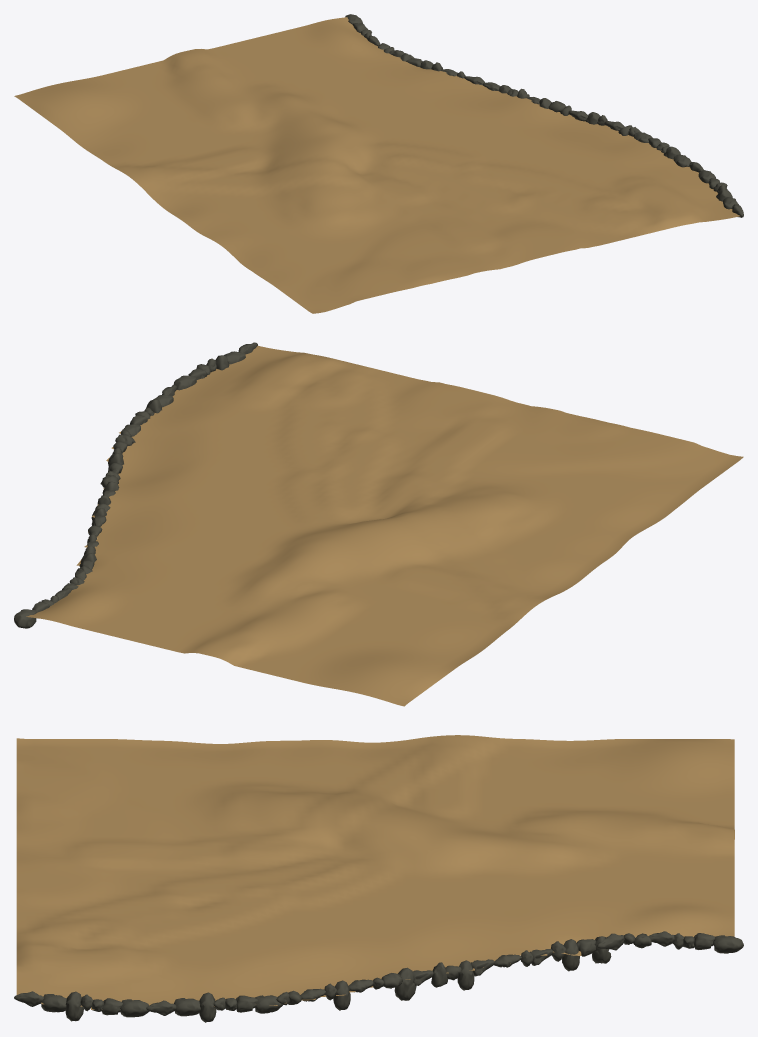
Rendered from ground_05.fbx.
The picture shows the model from 3 angles, top to bottom: view 1: azimuth 30°, elevation 25°; view 2: azimuth 150°, elevation 25°; view 3: azimuth 270°, elevation 25°; orthographic projection. The views are drawn at different scales.
Parts seen in each view (by area): view 1: polySurface_ground_05; view 2: polySurface_ground_05; view 3: polySurface_ground_05.
Part boxes in pixels (x1,y1,x2,y2): polySurface_ground_05: (14,14,743,313); polySurface_ground_05: (14,342,743,706); polySurface_ground_05: (14,735,743,1022).
Size of the model in its own units: 447 by 35.85 by 522.
